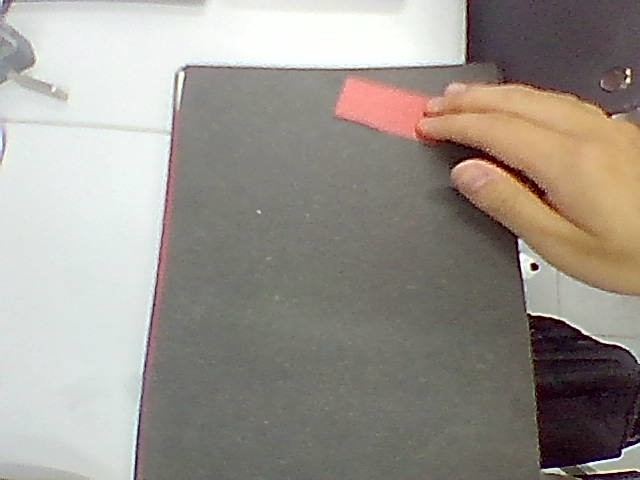card: (335, 76, 428, 139)
